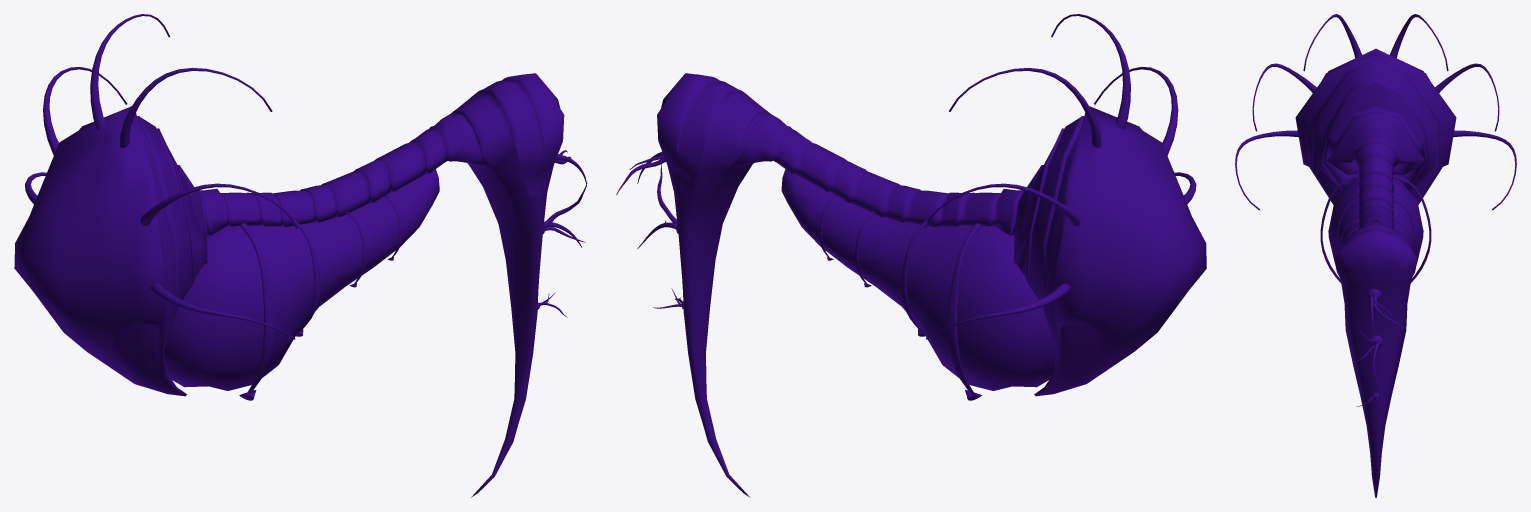
The model's file is amy_spaceship_stage01.obj.
3 renders of one model, left to right at view 1: azimuth 30°, elevation 25°; view 2: azimuth 150°, elevation 25°; view 3: azimuth 270°, elevation 25°, orthographic. The views are drawn at different scales.
Visible parts, largest first — view 1: body; view 2: body; view 3: body.
Part boxes in pixels (x1,y1,x2,y2): body: (14, 14, 587, 497); body: (616, 14, 1206, 497); body: (1235, 14, 1516, 497).
Bounding box in the file's own units: 1318 × 1193 × 817.
